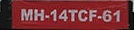character: (20, 8, 32, 21), (33, 8, 44, 21), (67, 8, 77, 21), (102, 9, 112, 22), (58, 9, 68, 21), (77, 9, 87, 21), (88, 9, 97, 21), (113, 9, 120, 22), (50, 8, 56, 21)
